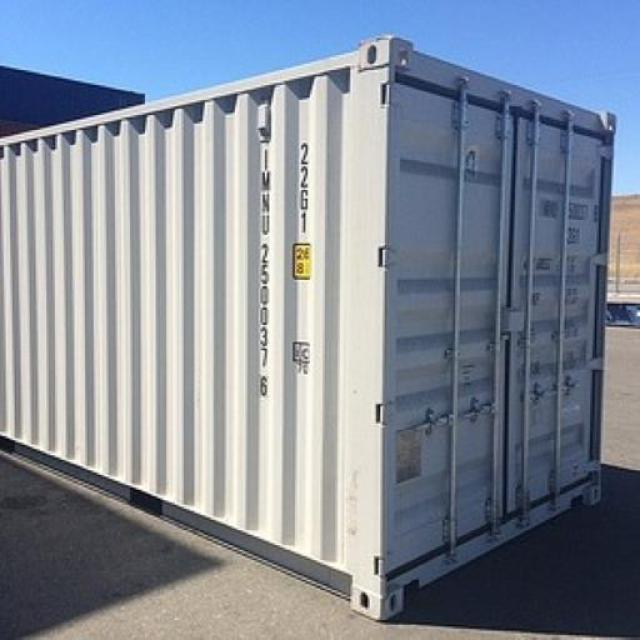ISO: (294, 138, 314, 234)
container_number: (255, 131, 272, 402)
